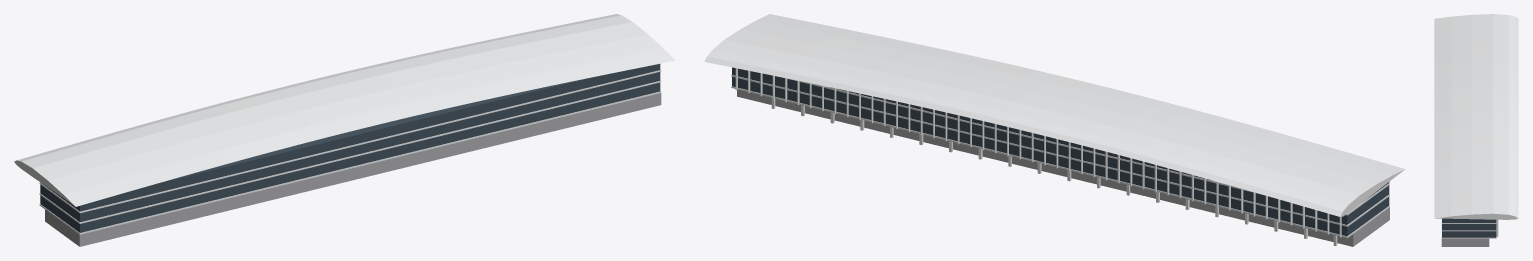
Rendered from silverstone_wing.glb.
The picture shows the model from 3 angles, left to right: view 1: azimuth 30°, elevation 25°; view 2: azimuth 150°, elevation 25°; view 3: azimuth 270°, elevation 25°; orthographic projection. The views are drawn at different scales.
Parts seen in each view (by area): view 1: roof, building; view 2: roof, building; view 3: roof, building.
Part boxes in pixels (x1,y1,x2,y2): roof: (14, 14, 675, 206); building: (39, 64, 661, 246); roof: (704, 14, 1405, 216); building: (731, 67, 1389, 246); roof: (1434, 14, 1518, 219); building: (1441, 218, 1498, 246).
Size of the model in its own units: 258 by 25.4 by 45.98.
